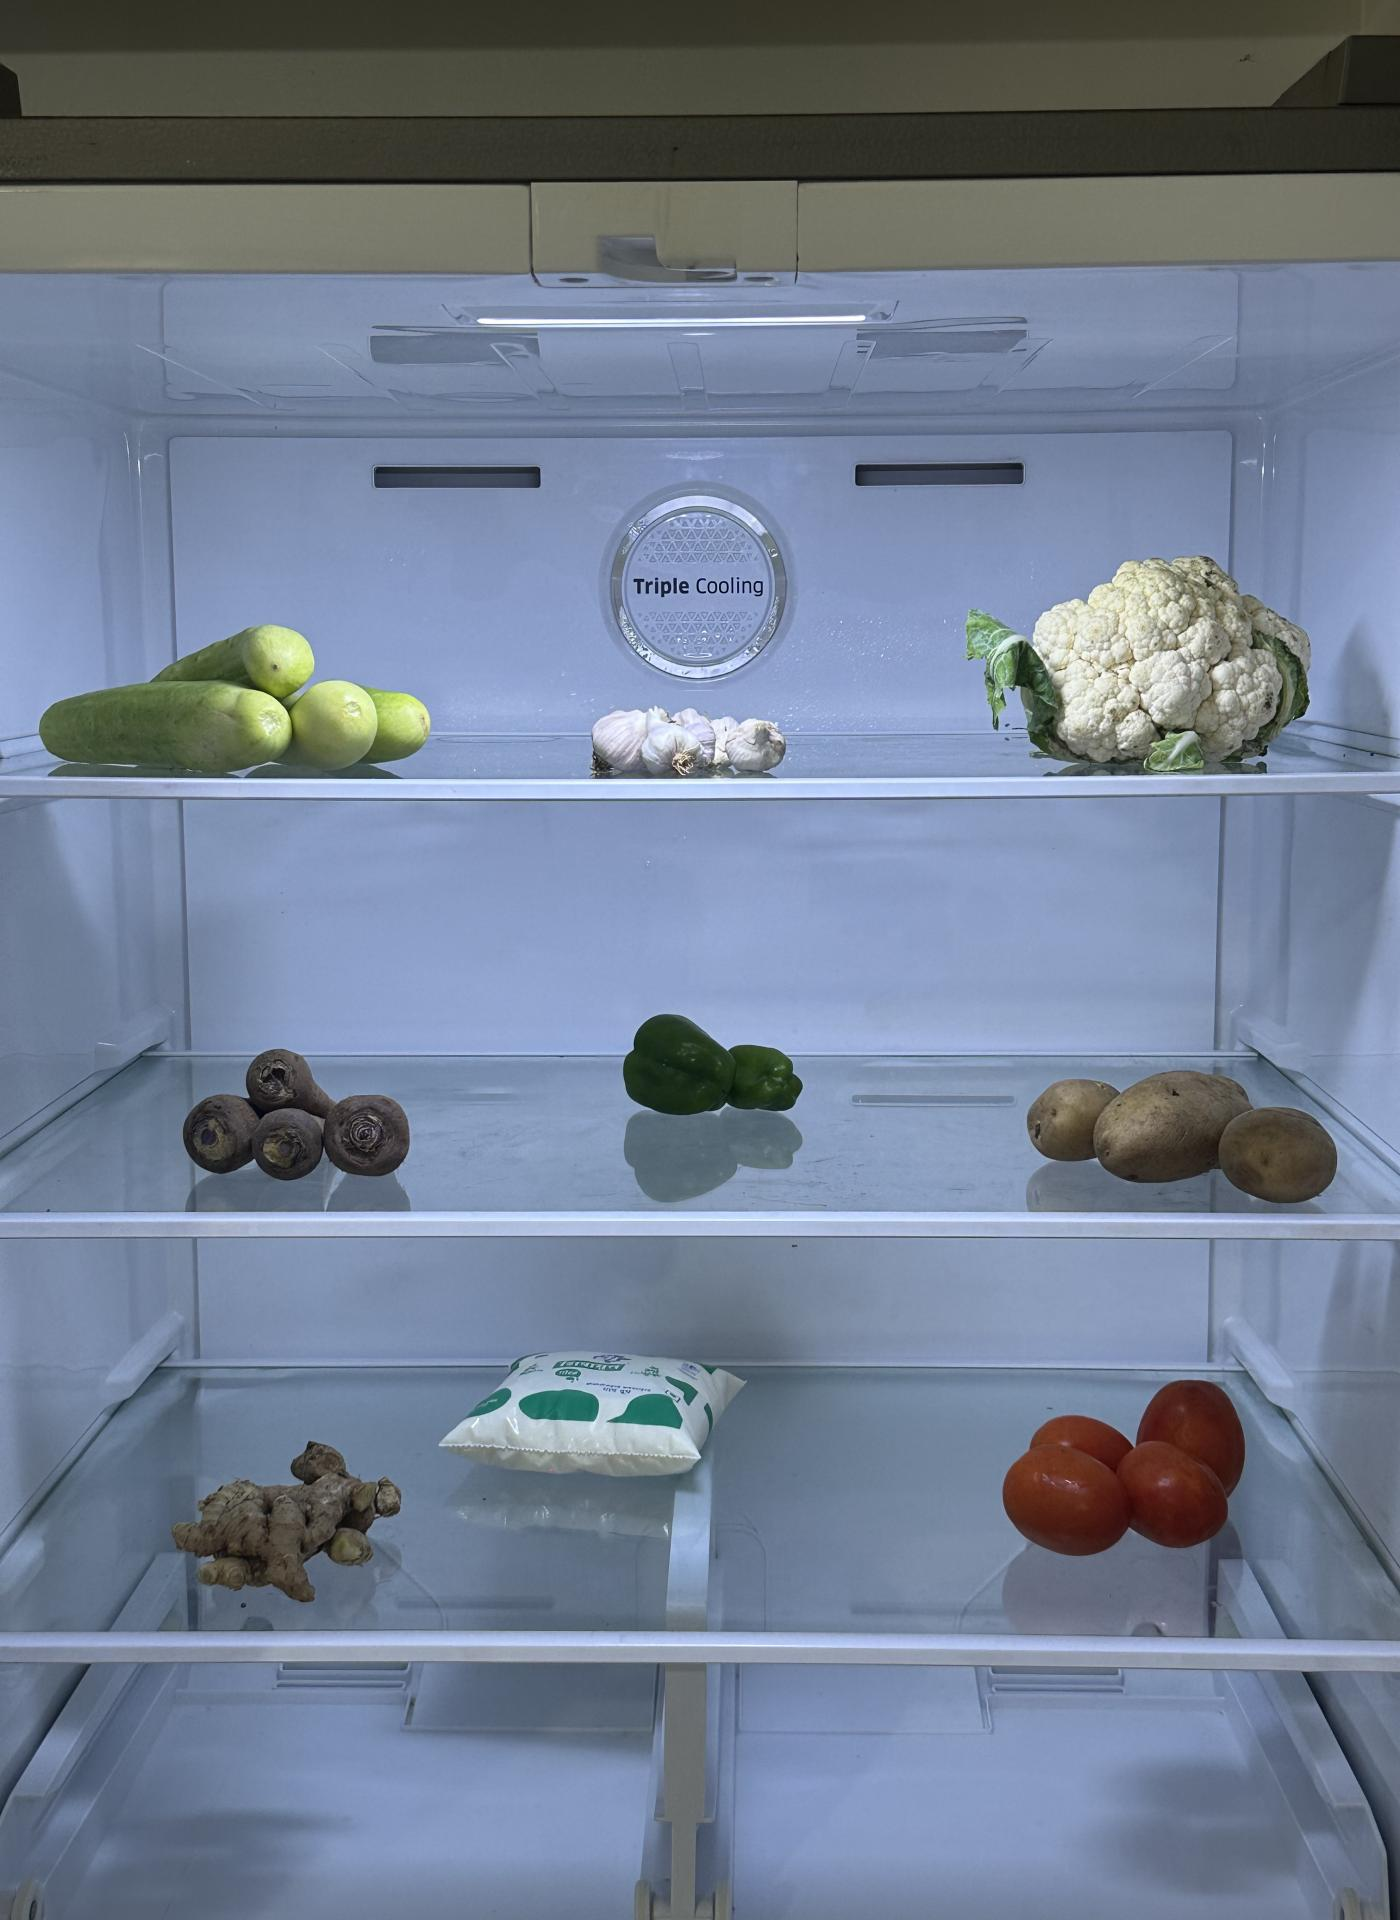capsicum: (616, 1012, 804, 1121)
carrots: (177, 1039, 417, 1187)
cauliflower: (1021, 547, 1321, 766)
cucumber: (27, 628, 423, 798)
garlic: (576, 707, 796, 774)
ginger: (173, 1437, 410, 1601)
milk: (444, 1340, 747, 1479)
potato: (1024, 1054, 1340, 1203)
tomato: (997, 1374, 1248, 1558)
